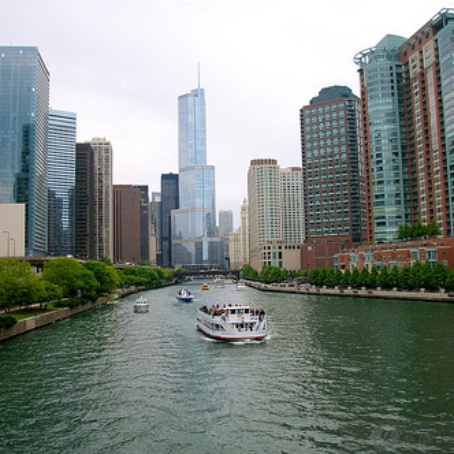boat: (186, 301, 265, 351)
building: (1, 53, 74, 261), (154, 78, 222, 263), (294, 76, 362, 247), (356, 42, 409, 248), (408, 27, 454, 237), (238, 157, 306, 267), (74, 137, 114, 263), (109, 179, 150, 269)
river: (1, 288, 454, 454)
sky: (54, 1, 359, 154)
